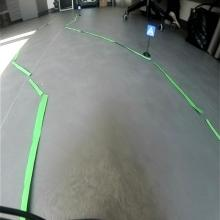crosswalk: (145, 24, 156, 38)
